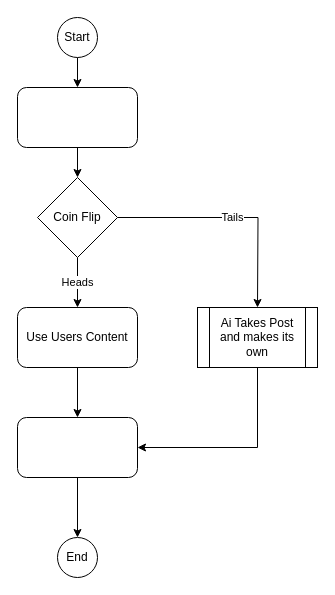
Image size: 335x595. Some labels were removed from this diagram. Here are the shapes that lost their labels. From the top down, the centre of each, then its label:
At (x=77, y=117): "User Writes Post".
At (x=77, y=447): "Post added to Users Home Page".
